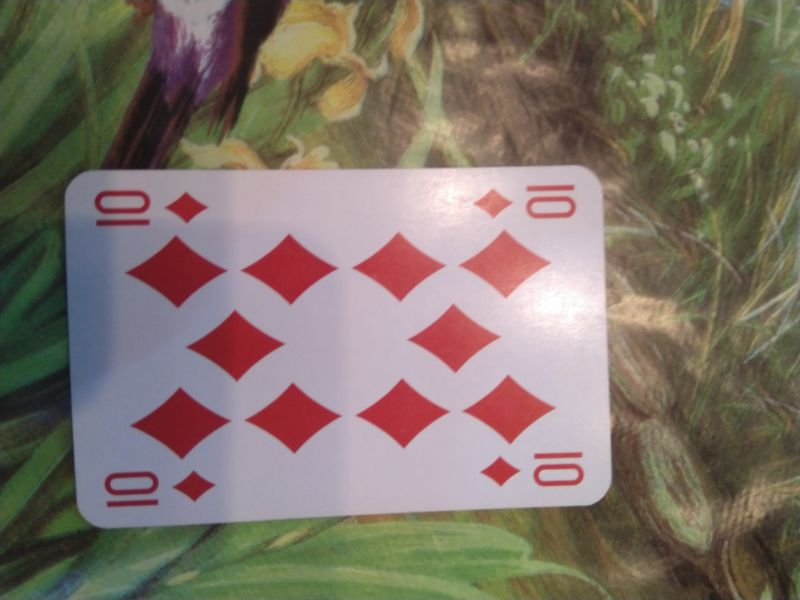Td: (89, 182, 212, 232), (98, 464, 220, 509), (468, 180, 581, 224), (476, 449, 589, 492)
